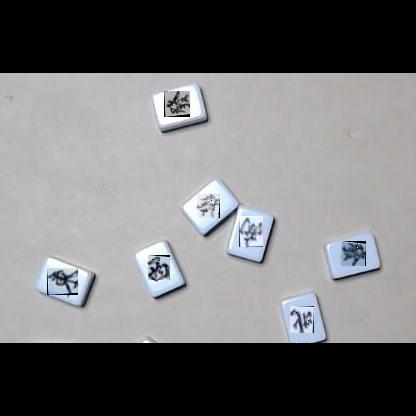1z: (47, 268, 78, 295)
2z: (239, 216, 263, 247)
3z: (148, 255, 170, 280)
4z: (290, 306, 314, 333)
6z: (164, 91, 190, 117), (341, 241, 366, 266), (197, 194, 220, 218)
